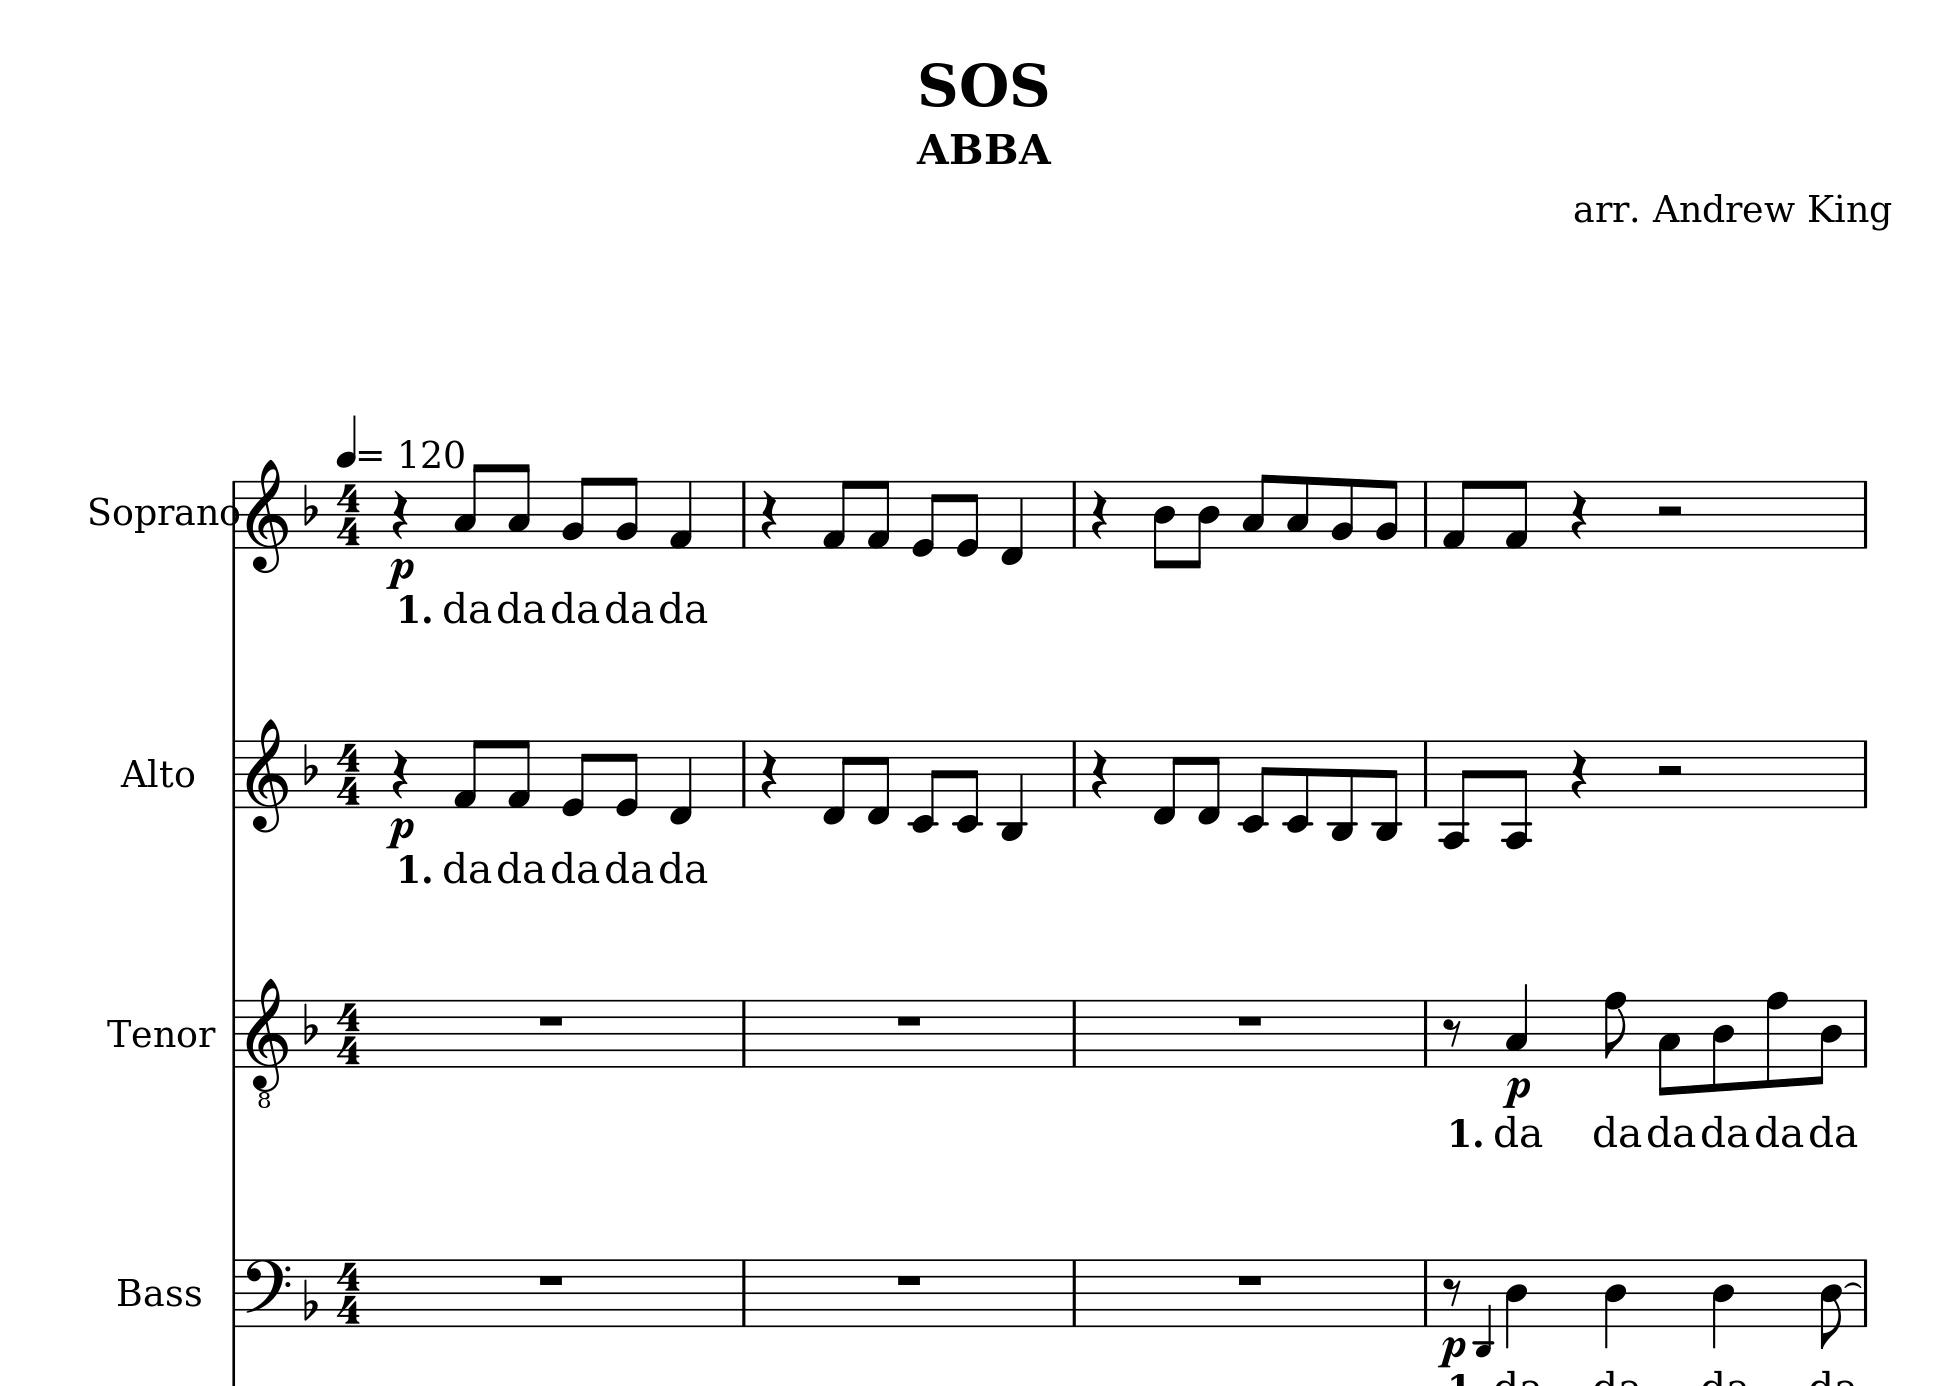0: (442, 436, 463, 469)
1: (397, 436, 415, 469)
2: (418, 436, 442, 469)
4: (334, 999, 364, 1033), (334, 1258, 364, 1293), (334, 514, 364, 547), (334, 739, 364, 772), (334, 772, 364, 805), (334, 1033, 364, 1066), (334, 480, 363, 514), (334, 1293, 364, 1324)
4_-1: (667, 736, 694, 826), (999, 478, 1026, 567)
4_-3: (999, 736, 1026, 841)
4_1: (667, 478, 694, 550)
4_3: (1504, 981, 1530, 1066)
4_4: (1504, 1255, 1530, 1348), (1713, 1257, 1737, 1350), (1605, 1257, 1627, 1348)
8_-1: (820, 738, 853, 826), (1152, 738, 1185, 826), (1197, 738, 1224, 826), (865, 738, 892, 825)
8_-2: (1239, 736, 1275, 832), (907, 738, 943, 832), (1284, 736, 1314, 834), (952, 738, 982, 832)
8_-3: (1329, 736, 1359, 841), (1374, 736, 1402, 841)
8_-4: (1440, 736, 1473, 849), (1503, 736, 1531, 849)
8_0: (559, 739, 592, 819), (910, 478, 942, 558), (613, 738, 640, 817), (955, 478, 981, 558)
8_1: (451, 736, 486, 810), (820, 478, 853, 550), (1441, 478, 1473, 550), (505, 736, 532, 811), (1503, 478, 1530, 552), (865, 478, 892, 550)
8_2: (559, 474, 592, 550), (613, 475, 640, 550), (1330, 475, 1356, 550), (1377, 478, 1401, 550)
8_3: (451, 462, 486, 550), (1656, 996, 1683, 1098), (505, 460, 532, 552), (1242, 472, 1273, 550), (1287, 474, 1311, 550)
8_4: (1810, 996, 1845, 1086), (1188, 478, 1221, 571), (1710, 996, 1737, 1093), (1152, 478, 1177, 571), (1818, 1257, 1843, 1350)
8_8: (1761, 988, 1791, 1090), (1603, 988, 1629, 1069)
Bass: (115, 1273, 202, 1312)
Fclef: (243, 1255, 292, 1327)
Flat: (300, 481, 319, 526), (300, 741, 319, 786), (300, 1000, 319, 1045), (301, 1276, 319, 1321)
Gclef: (244, 717, 289, 835), (244, 457, 289, 574)
Lower_Gclef: (244, 976, 289, 1108)
Rests1: (535, 1011, 567, 1030), (1234, 1011, 1266, 1029), (535, 1270, 567, 1288), (894, 1270, 925, 1288), (1234, 1270, 1266, 1288), (892, 1012, 925, 1029)
Rests2: (1653, 760, 1686, 781), (1653, 502, 1686, 520)
Rests4: (757, 487, 778, 541), (1089, 487, 1110, 541), (1569, 487, 1590, 541), (388, 487, 409, 540), (388, 747, 409, 799), (757, 748, 778, 801), (1089, 748, 1110, 801), (1569, 747, 1590, 799)
Rests8: (1443, 1015, 1464, 1050), (1443, 1275, 1464, 1308)
Single_barline: (1857, 739, 1875, 807), (1857, 1258, 1875, 1326), (226, 478, 243, 549), (1417, 478, 1434, 547), (1417, 739, 1434, 808), (1857, 480, 1873, 547), (1417, 999, 1434, 1066), (735, 481, 751, 547), (1066, 481, 1083, 547), (735, 1258, 751, 1324), (1066, 1258, 1083, 1324), (1417, 1258, 1434, 1324), (1858, 997, 1873, 1068), (226, 739, 241, 808), (736, 739, 751, 808), (1068, 739, 1083, 808), (226, 999, 241, 1068), (226, 1258, 241, 1326), (736, 1000, 751, 1066), (1068, 1000, 1083, 1066)
Slur: (1845, 1279, 1864, 1290)
Speed4: (336, 411, 385, 466)
TimeSig: (334, 478, 364, 546), (334, 739, 363, 805), (334, 1000, 363, 1066), (334, 1258, 363, 1324)
p: (382, 814, 415, 850), (384, 556, 415, 591), (1501, 1074, 1531, 1108), (1437, 1333, 1467, 1366)
